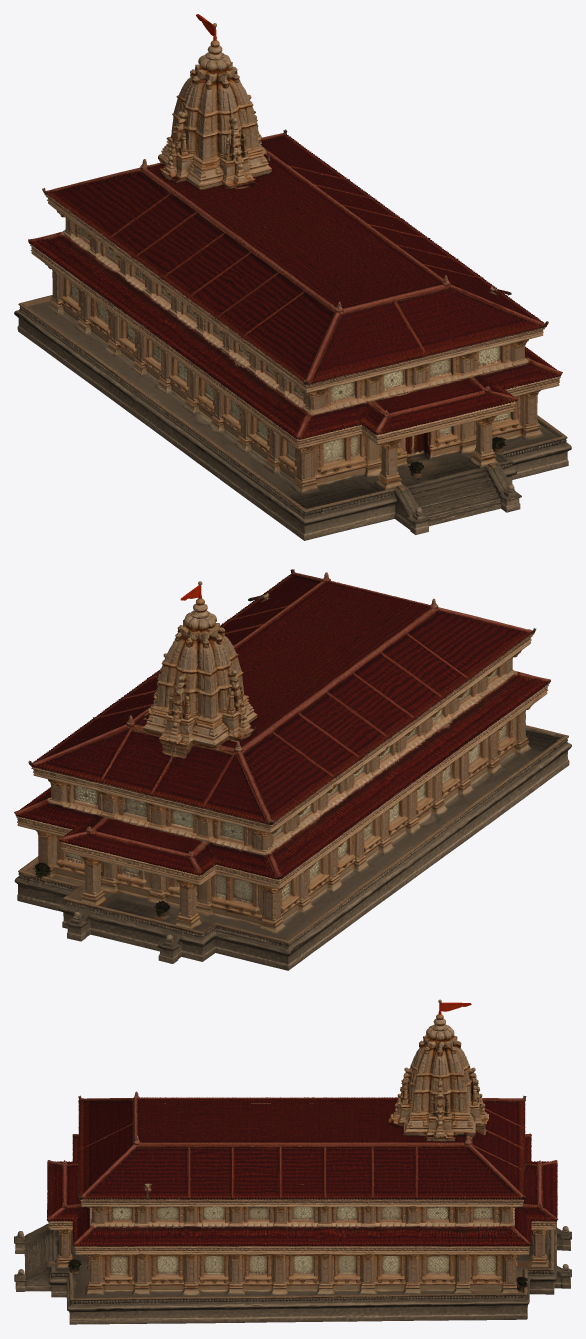
File: temple-lo.glb
3 views of the same model, one above another, from view 1: azimuth 30°, elevation 25°; view 2: azimuth 150°, elevation 25°; view 3: azimuth 270°, elevation 25° (orthographic). The views are drawn at different scales.
Visible parts, largest first — view 1: tripo_node_f9904ec2-4afe-4d0f-a5c2-266319d56b1a; view 2: tripo_node_f9904ec2-4afe-4d0f-a5c2-266319d56b1a; view 3: tripo_node_f9904ec2-4afe-4d0f-a5c2-266319d56b1a.
Boxes of the visible parts, x1,y1,x2,y2 form: tripo_node_f9904ec2-4afe-4d0f-a5c2-266319d56b1a: (14,14,571,540); tripo_node_f9904ec2-4afe-4d0f-a5c2-266319d56b1a: (14,569,571,970); tripo_node_f9904ec2-4afe-4d0f-a5c2-266319d56b1a: (14,999,571,1324).
Bounding box in the file's own units: 0.4879 × 0.5219 × 0.9801.
1 material, 1 textured.
